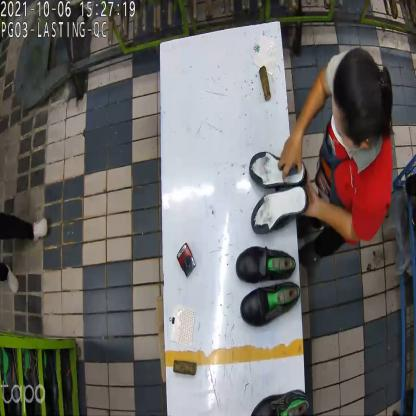shoes: (235, 243, 305, 323), (248, 146, 308, 235)
stamp: (282, 141, 305, 176), (174, 246, 198, 277)
